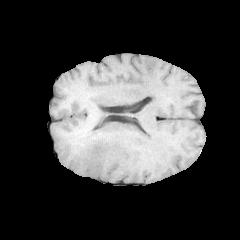glioma: (62, 97, 165, 178)
